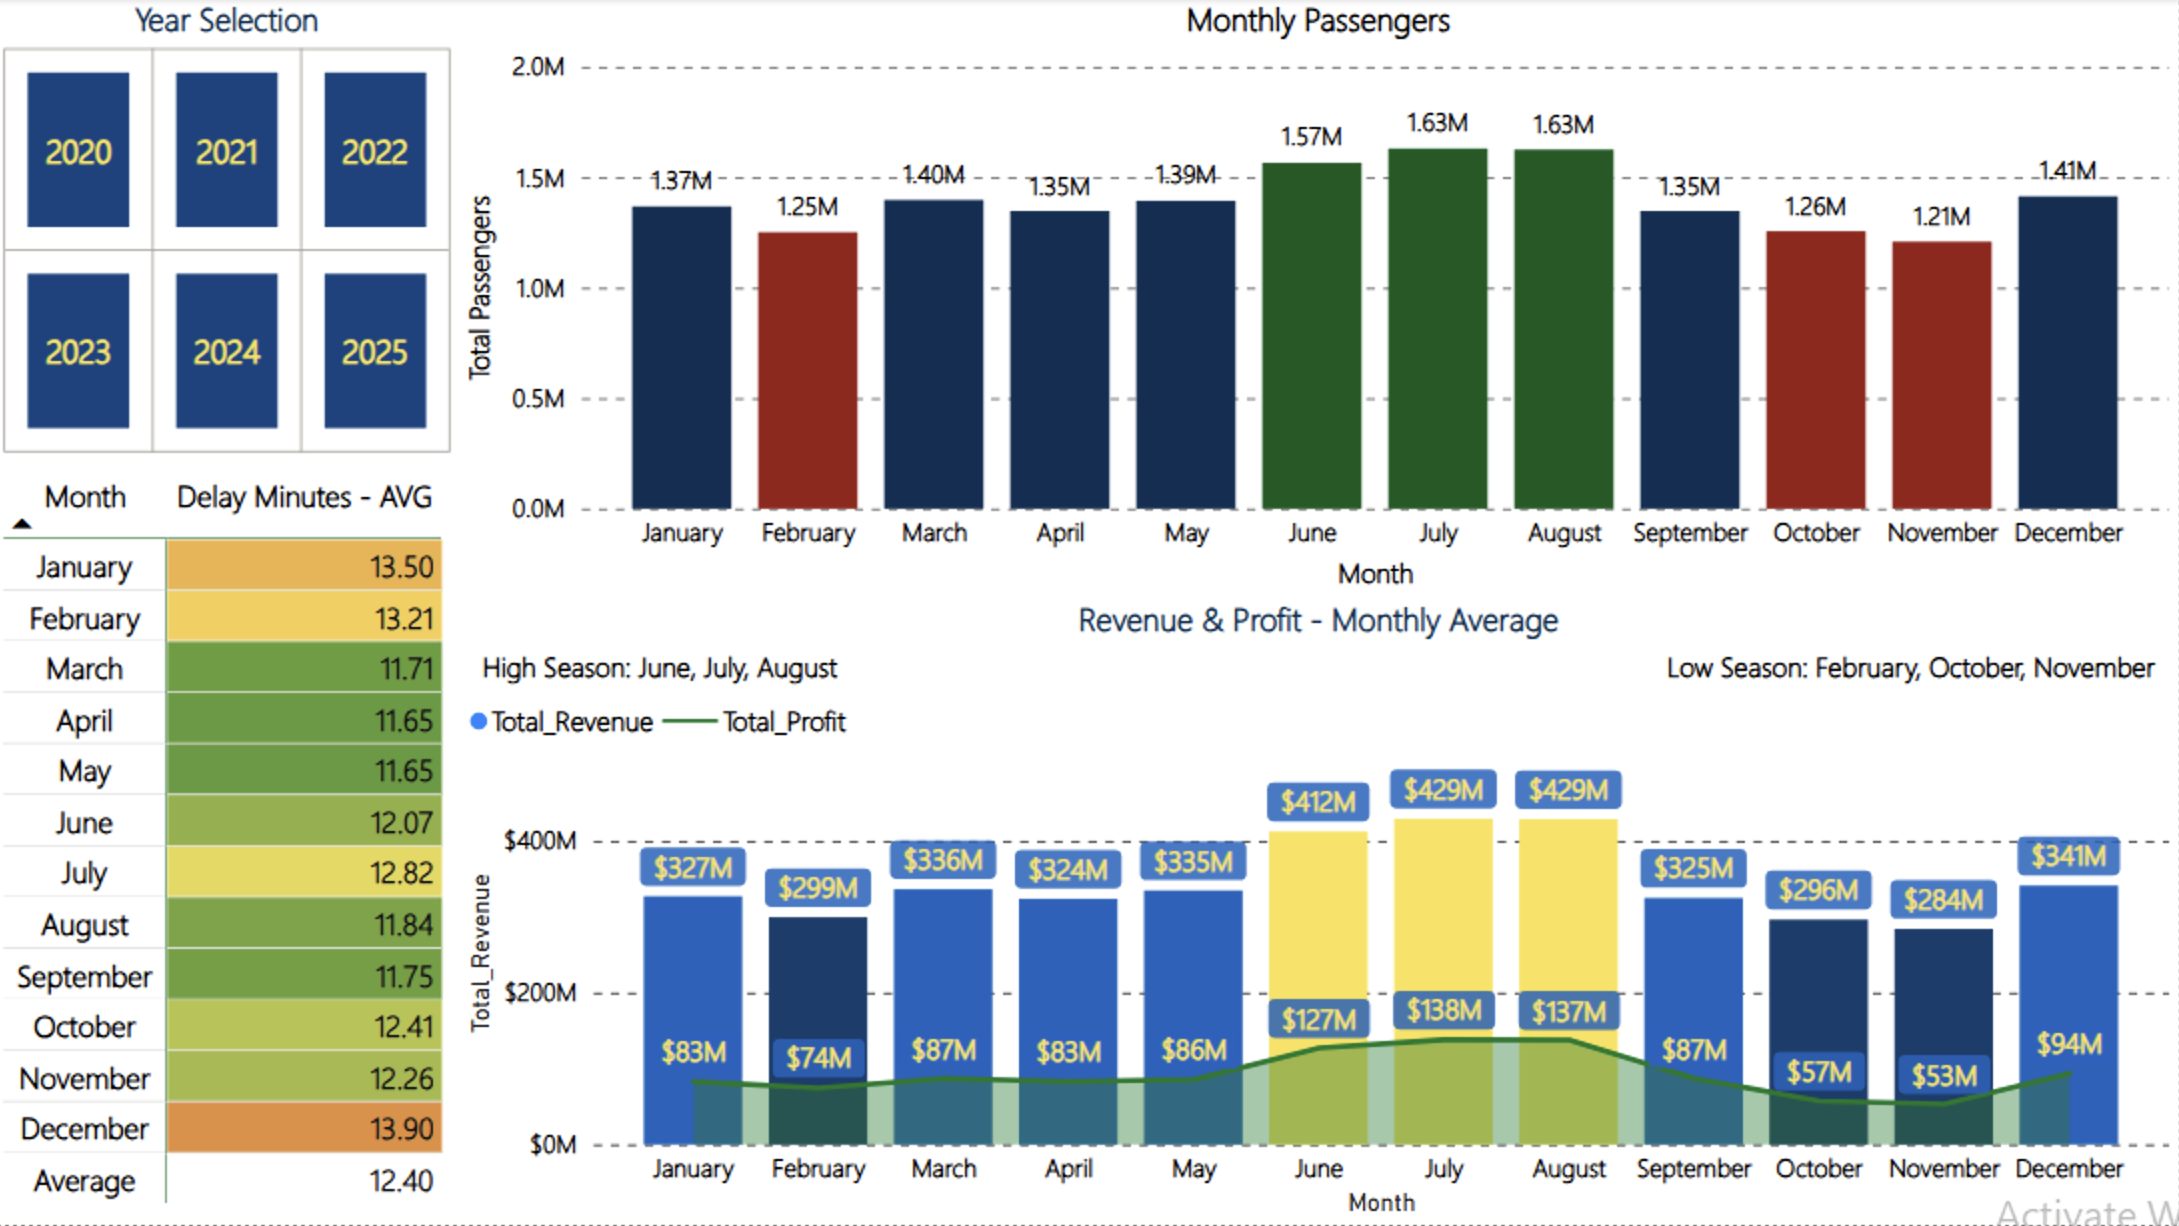

The page's visual inventory and layout, read from the dashboard file:
{"tool":"powerbi","page":{"name":"Revenue & Seasonality","canvas":[1280,720],"ordinal":1},"visuals":[{"type":"clusteredColumnChart","title":"Monthly Passengers ","fields":{"Y":["Measures_.Total_Passengers"],"Category":["dim_date.Month_Name"]},"box":[272,0,1008,352],"z":0},{"type":"lineStackedColumnComboChart","title":"Revenue & Profit - Monthly Average ","fields":{"Category":["dim_date.Month_Name"],"Y":["Measures_.Total_Revenue"],"Y2":["Measures_.Total_Profit"]},"box":[272,352,1008,368],"z":1000},{"type":"advancedSlicerVisual","title":"Year Selection","fields":{"Values":["dim_date.Year"]},"box":[0,0,272,272],"z":2000},{"type":"pivotTable","title":"Monthly Passengers ","fields":{"Rows":["dim_date.Month_Name"],"Values":["Measures_.Average_Delay_Minutes"]},"box":[0,272,272,448],"z":3000}]}

Visuals, with their boxes in screenshot pixels (x1, y1, x2, y2), scaled from the page's 1280x720 canvas onto the 2179x1226 screenshot:
"Monthly Passengers " clusteredColumnChart: region(463, 0, 2178, 599)
"Revenue & Profit - Monthly Average " lineStackedColumnComboChart: region(463, 599, 2178, 1225)
"Year Selection" advancedSlicerVisual: region(0, 0, 463, 463)
"Monthly Passengers " pivotTable: region(0, 463, 463, 1225)
